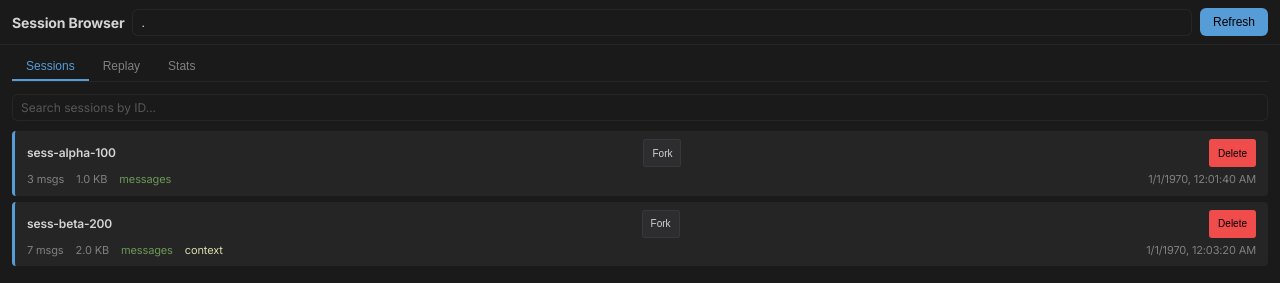
Test: Given two sessions are listed › When the user types "alpha" in the search box, Then only the matching session shows
Expected: the text "sess-alpha-100" is shown, [27,144,116,162]
In the field with placeholder "Search sessions by ID...": x=640, y=108 [12,94,1268,121], type "alpha"
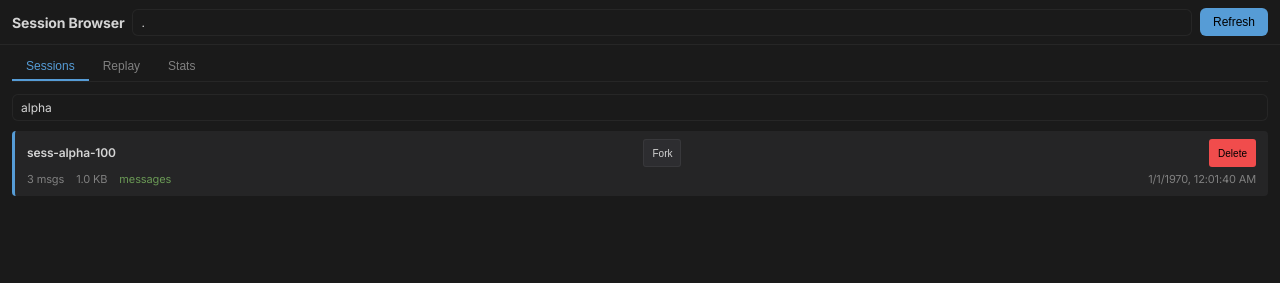
Expected: the text "sess-alpha-100" is shown, [27,144,116,162]
Expected: the text "sess-beta-200" is gone
